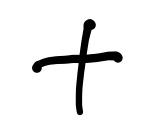plus: (30, 20, 123, 115)
